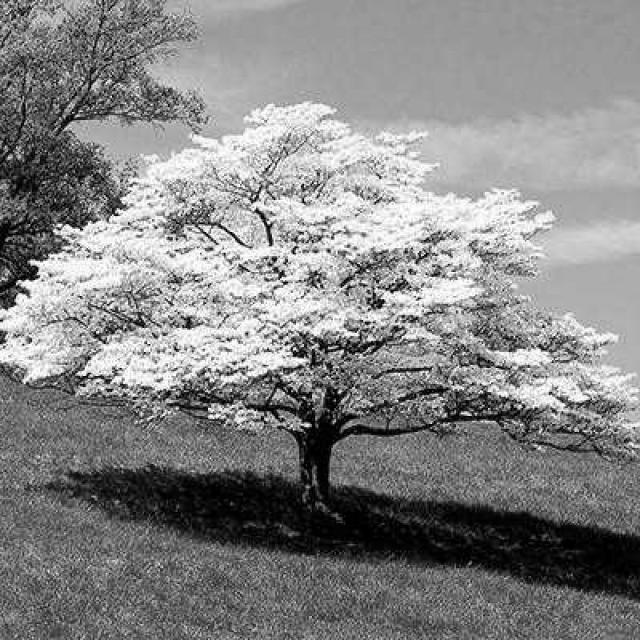Tree: (0, 104, 635, 509)
